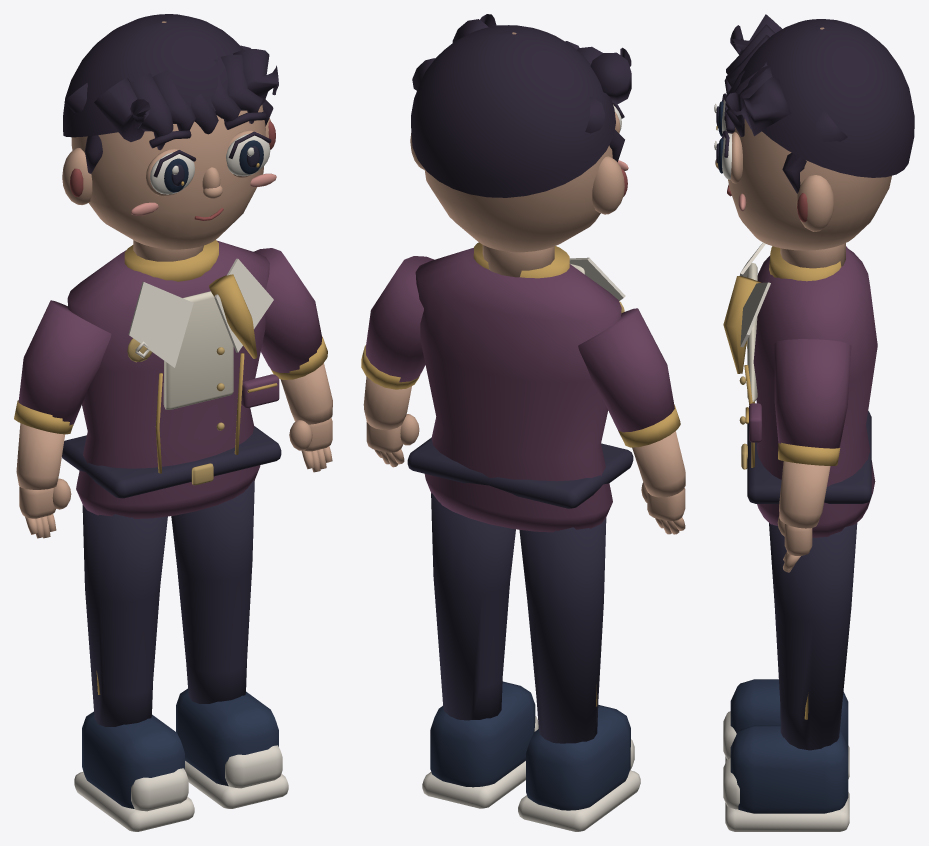
Rendered from elite_dragon_examiner.glb.
The picture shows the model from 3 angles, left to right: view 1: azimuth 30°, elevation 25°; view 2: azimuth 150°, elevation 25°; view 3: azimuth 270°, elevation 25°; orthographic projection.
Parts seen in each view (by area): view 1: figure.026; view 2: figure.026; view 3: figure.026.
Boxes of the visible parts, x1,y1,x2,y2 form: figure.026: (14,14,332,831); figure.026: (361,14,685,831); figure.026: (714,14,914,831).
Bounding box in the file's own units: 1.13 × 2.63 × 0.6222.
